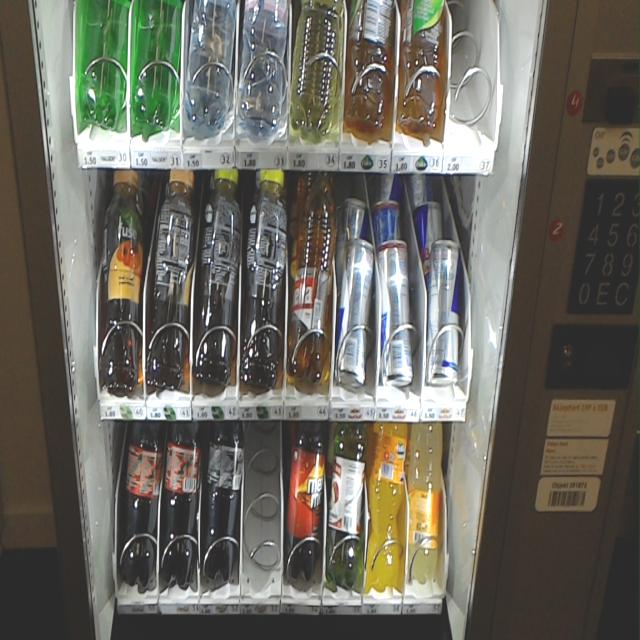coke__flasche_50__54491472: (159, 417, 203, 587), (120, 416, 160, 587)
coke_zero_flasche_50__5449000131836: (205, 418, 242, 590)
fanta___50__40822938: (368, 419, 406, 589)
fuse_lemon__50__5449000235947: (239, 166, 287, 386), (197, 167, 242, 391)
fuse_peach__50__5449000236623: (146, 166, 194, 386), (101, 168, 140, 393)
mezzomix___50__54490840: (283, 419, 326, 588)
ramseier_jusdepomme__50__7610057001078: (325, 420, 367, 588)
redbull___33__90162909: (337, 236, 374, 385), (376, 238, 412, 384), (427, 239, 461, 390)
rivella_rot__50__7610097111072: (288, 169, 334, 384)
schweppes_citrus__50__: (410, 419, 440, 592)
